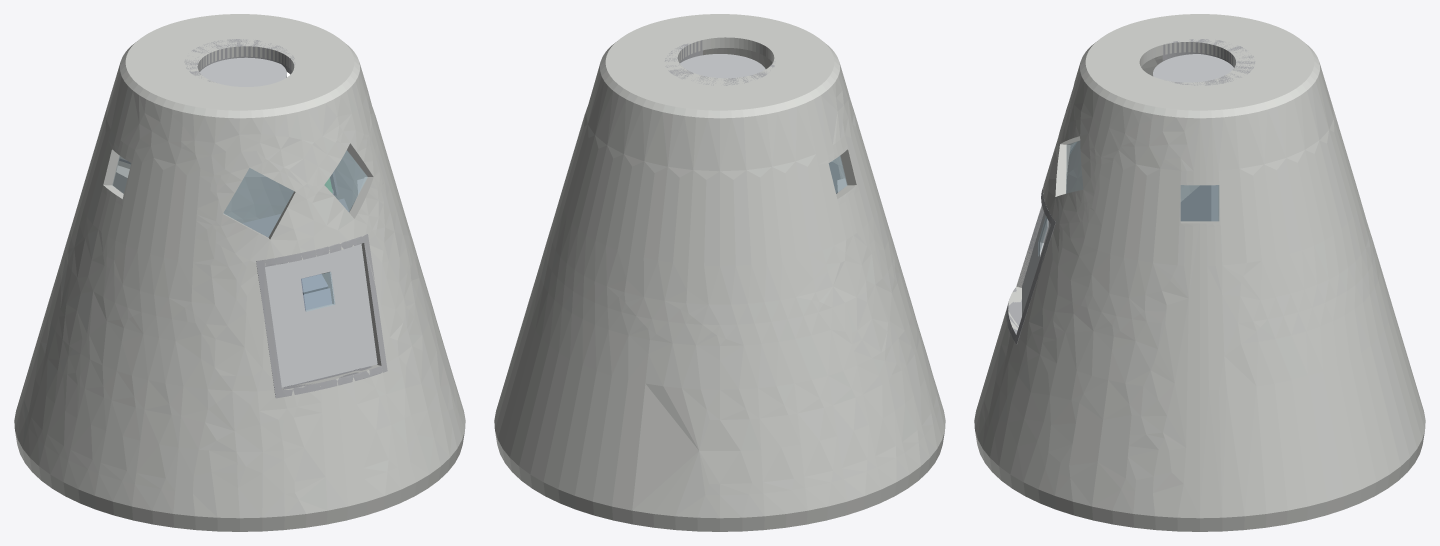
File: cmd05_dragon_capsule_interior.glb
3 renders of one model, left to right at view 1: azimuth 30°, elevation 25°; view 2: azimuth 150°, elevation 25°; view 3: azimuth 270°, elevation 25°, orthographic.
Visible parts, largest first — view 1: pressure_vessel, hatch_door_1, window_glass_inner, hatch_tunnel_1, hatch_door_2, hatch_tunnel_2, seat_4; view 2: pressure_vessel, hatch_door_2, hatch_tunnel_2; view 3: pressure_vessel, window_glass_inner, hatch_door_2, hatch_tunnel_1, hatch_tunnel_2, main_console, hatch_door_1.
Boxes of the visible parts, <box> form: pressure_vessel: <box>14,14,465,531</box>; hatch_door_1: <box>265,243,377,387</box>; window_glass_inner: <box>112,150,367,311</box>; hatch_tunnel_1: <box>256,234,387,398</box>; hatch_door_2: <box>200,57,286,86</box>; hatch_tunnel_2: <box>184,39,295,82</box>; seat_4: <box>301,274,331,310</box>; pressure_vessel: <box>494,14,945,531</box>; hatch_door_2: <box>680,54,765,78</box>; hatch_tunnel_2: <box>664,40,775,85</box>; pressure_vessel: <box>974,14,1425,531</box>; window_glass_inner: <box>1038,140,1219,255</box>; hatch_door_2: <box>1153,54,1233,82</box>; hatch_tunnel_1: <box>1006,184,1055,344</box>; hatch_tunnel_2: <box>1162,39,1255,85</box>; main_console: <box>1180,185,1217,221</box>; hatch_door_1: <box>1022,212,1050,315</box>.
Size of the model in its own units: 3.74 by 3.43 by 3.74.
